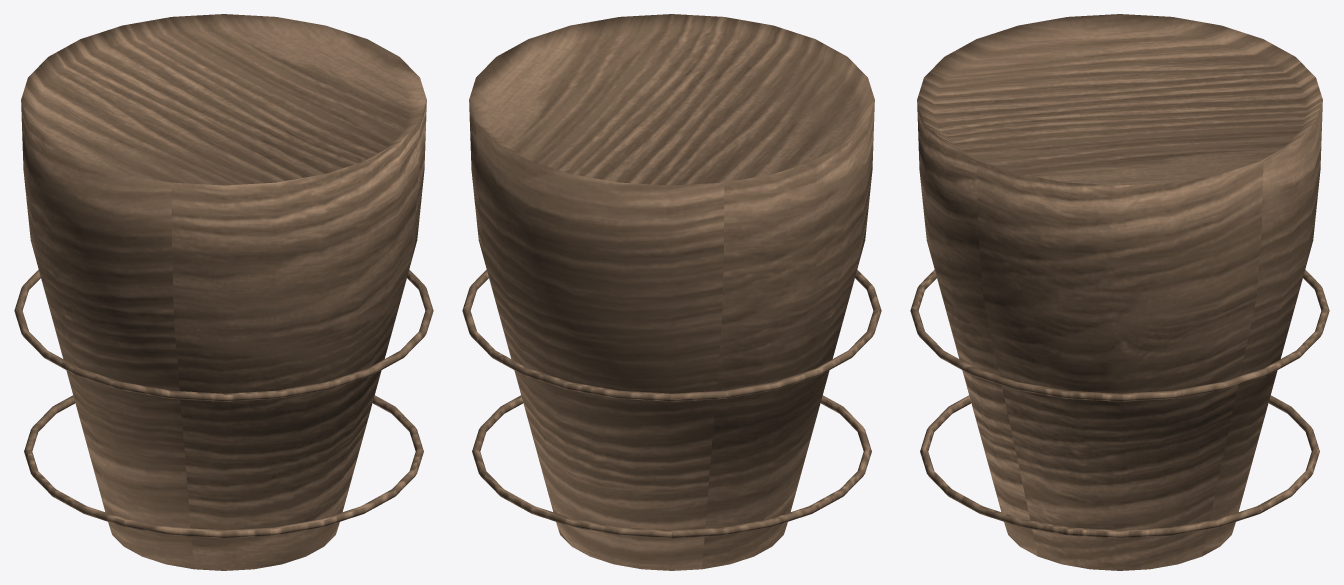
The model's file is barrel.glb.
3 renders of one model, left to right at view 1: azimuth 30°, elevation 25°; view 2: azimuth 150°, elevation 25°; view 3: azimuth 270°, elevation 25°, orthographic.
Visible parts, largest first — view 1: barrel; view 2: barrel; view 3: barrel.
Part boxes in pixels (left/top/right/bottom): barrel: left=14, top=14, right=433, bottom=570; barrel: left=462, top=14, right=881, bottom=570; barrel: left=910, top=14, right=1329, bottom=570.
Size of the model in its own units: 0.81 by 0.9 by 0.81.
1 material, 1 textured.
